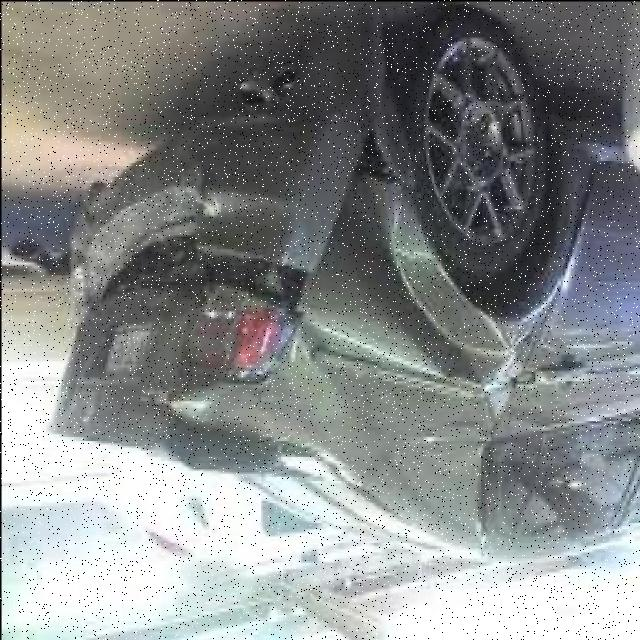damage: (51, 18, 564, 556)
